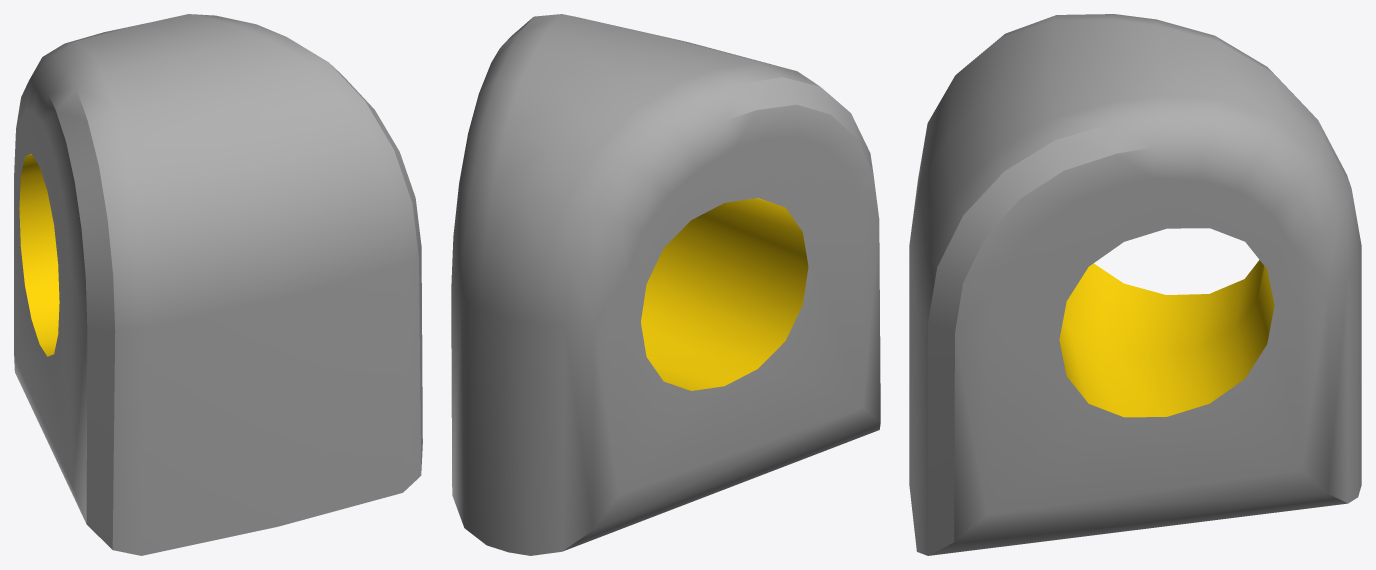
File: LockHolderP.fbx
3 views of the same model, side by side, from view 1: azimuth 30°, elevation 25°; view 2: azimuth 150°, elevation 25°; view 3: azimuth 270°, elevation 25° (orthographic). The views are drawn at different scales.
Parts seen in each view (by area): view 1: LockHolderP; view 2: LockHolderP; view 3: LockHolderP.
Boxes of the visible parts, x1,y1,x2,y2 form: LockHolderP: (14,14,422,555); LockHolderP: (451,14,880,555); LockHolderP: (909,14,1361,555).
Size of the model in its own units: 60.47 by 69.05 by 66.65.
